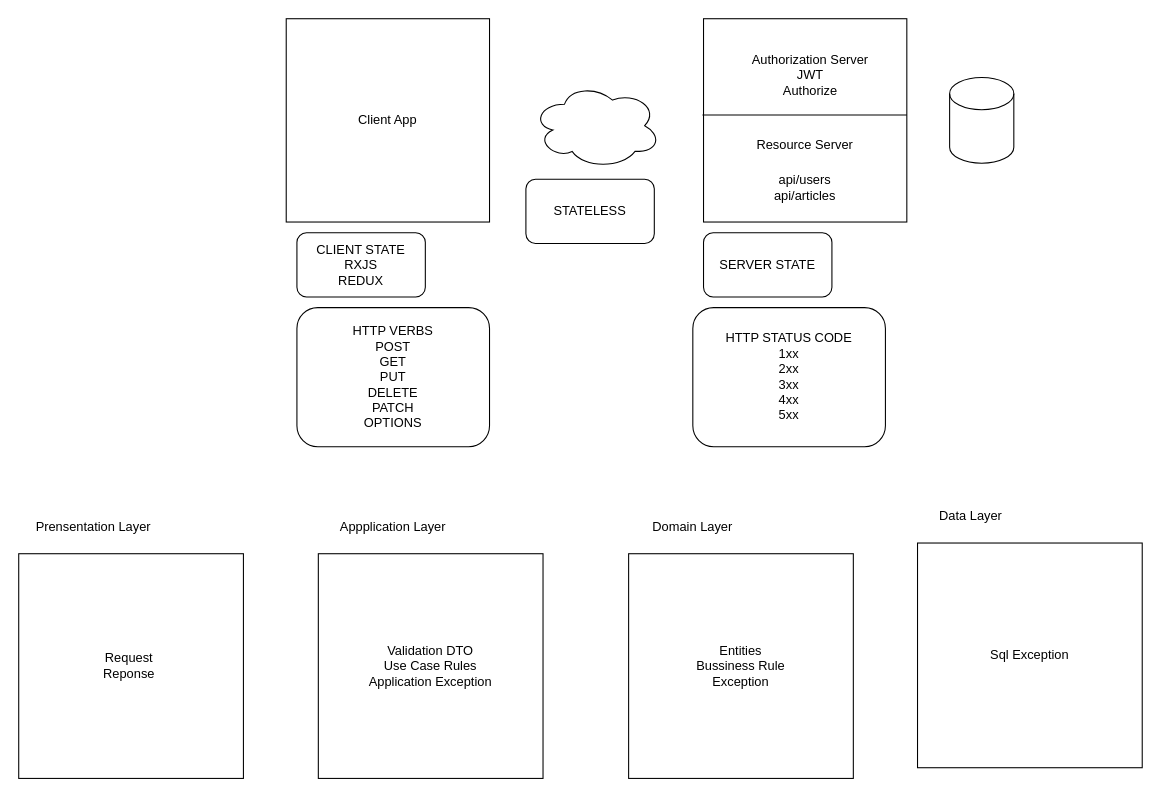
Image size: 1161x797. Some labels were removed from this diagram. The centre of each missing label's shape, as x and y in pixels:
"DB" goes at point 981,120.
"HTTPS HTTP" goes at point 596,125.
